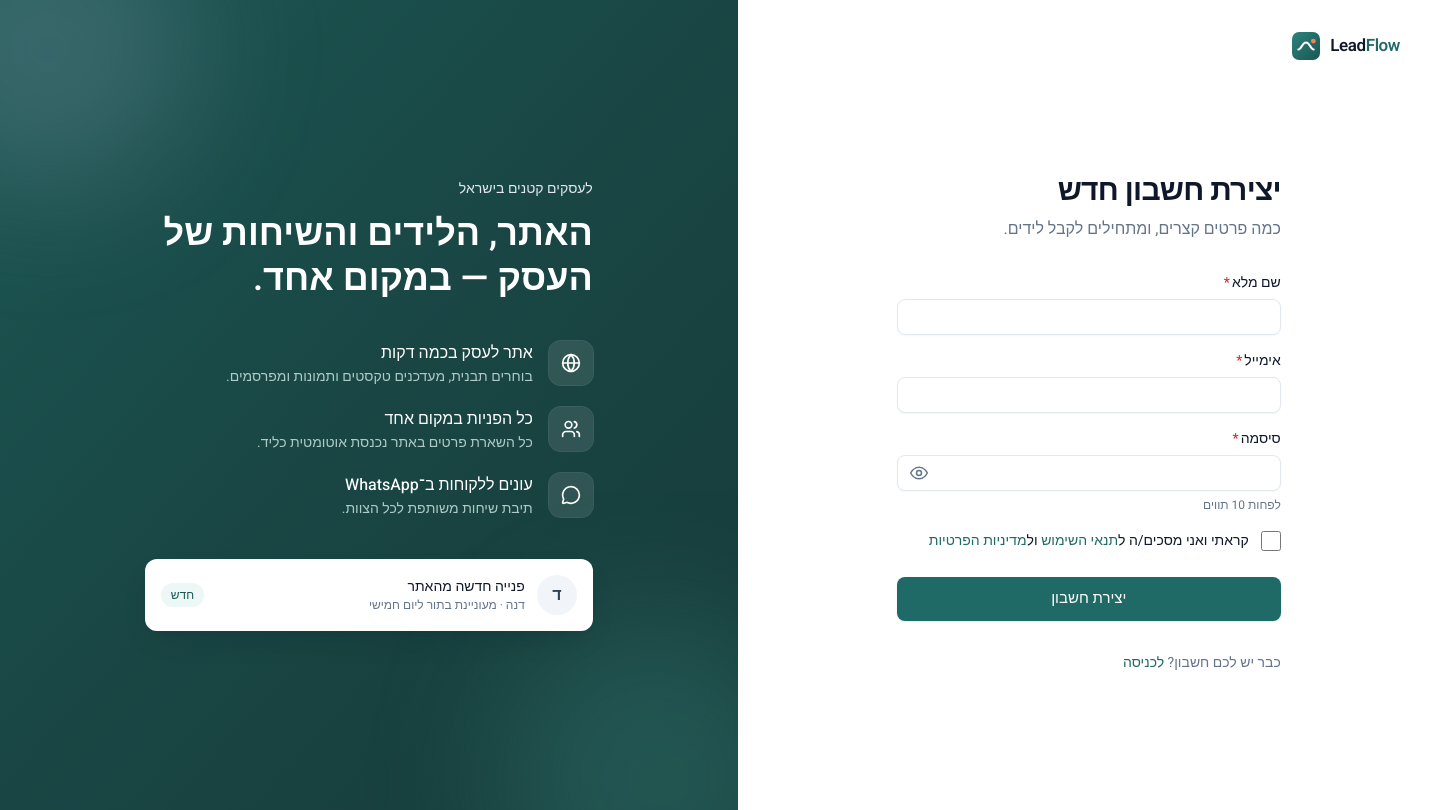
Test: RegisterPage › creates the account and lands on the business home with the unverified banner
Check: the button "יצירת חשבון" is shown, box [897, 576, 1281, 620]
Type "דנה כהן" into the field labelled "שם מלא*". click: (1089, 316)
box: [897, 298, 1281, 334]
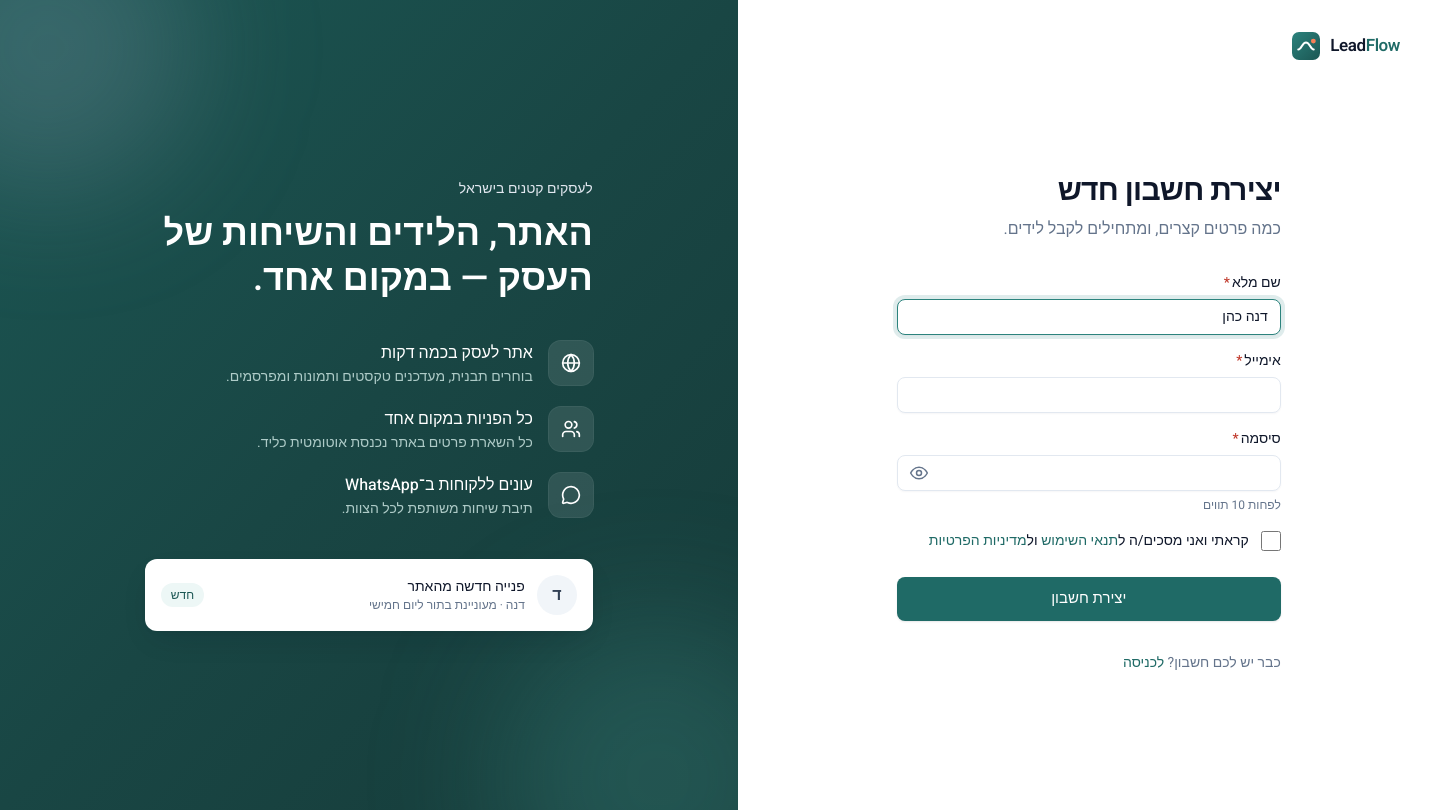
Type "dana@example.com" into the field labelled "אימייל*". click: (1089, 394)
box: [897, 376, 1281, 412]
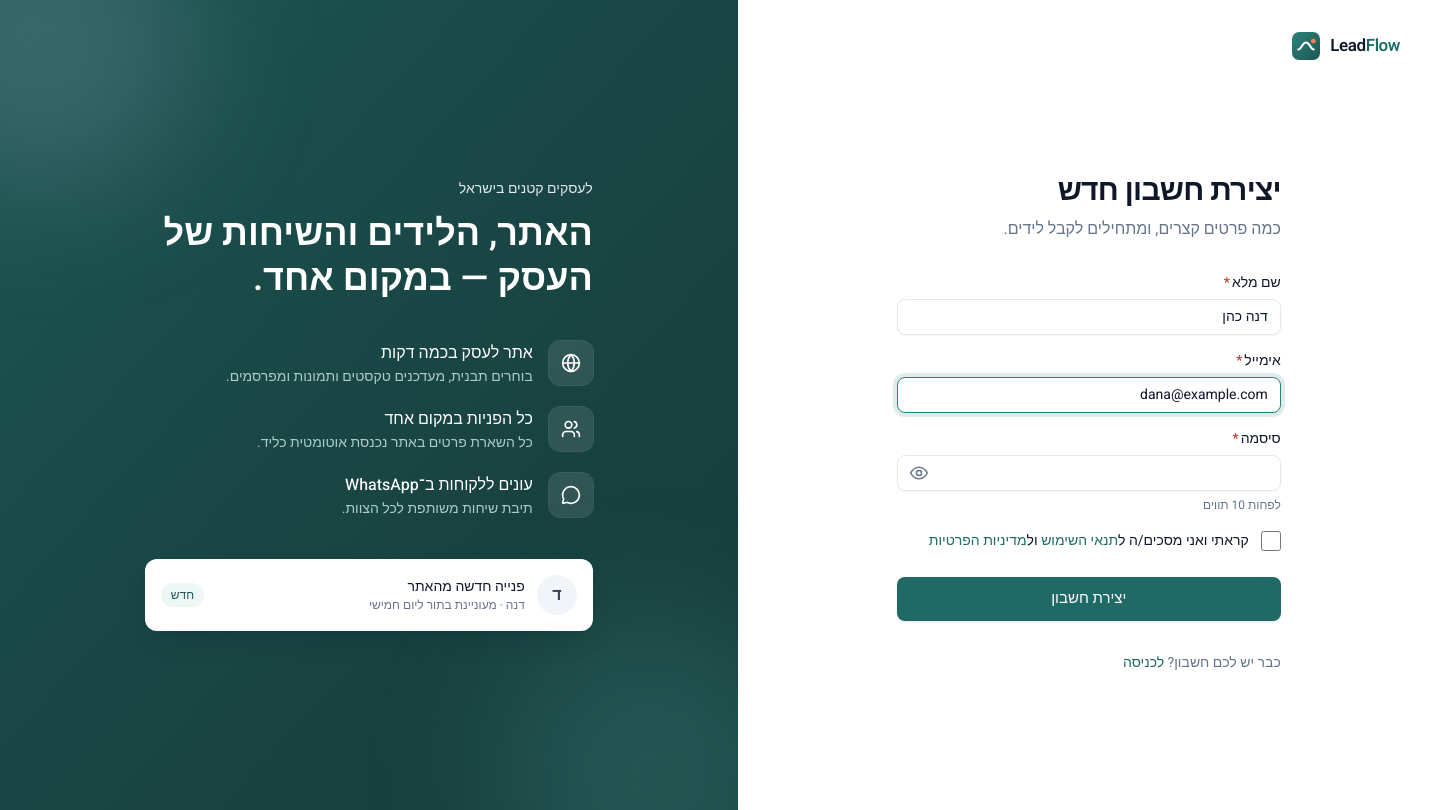
Type "a-strong-password" into the password field labelled "סיסמה*". click: (1089, 472)
box: [897, 454, 1281, 490]
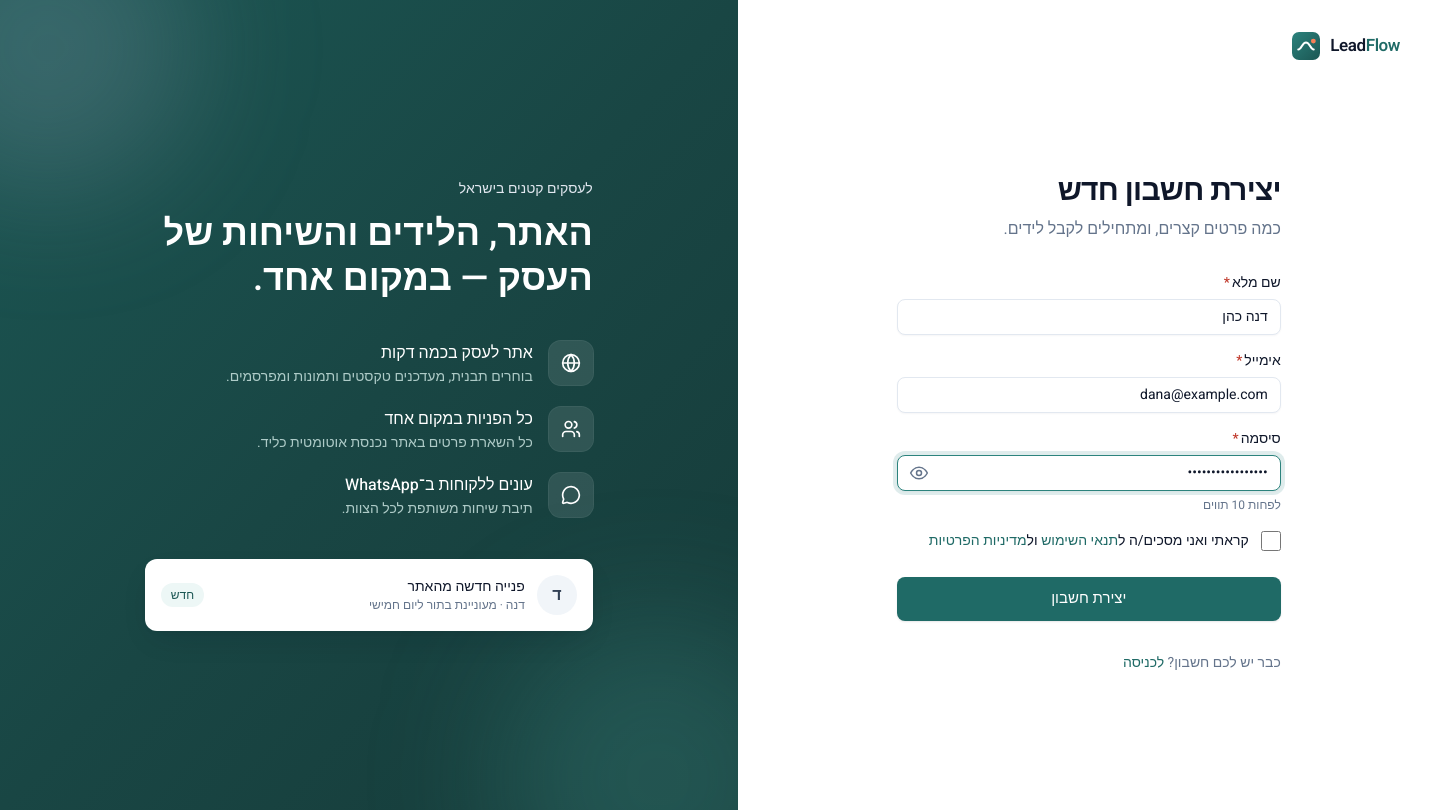
Click the checkbox. click: (1271, 540)
box: [1261, 530, 1281, 550]
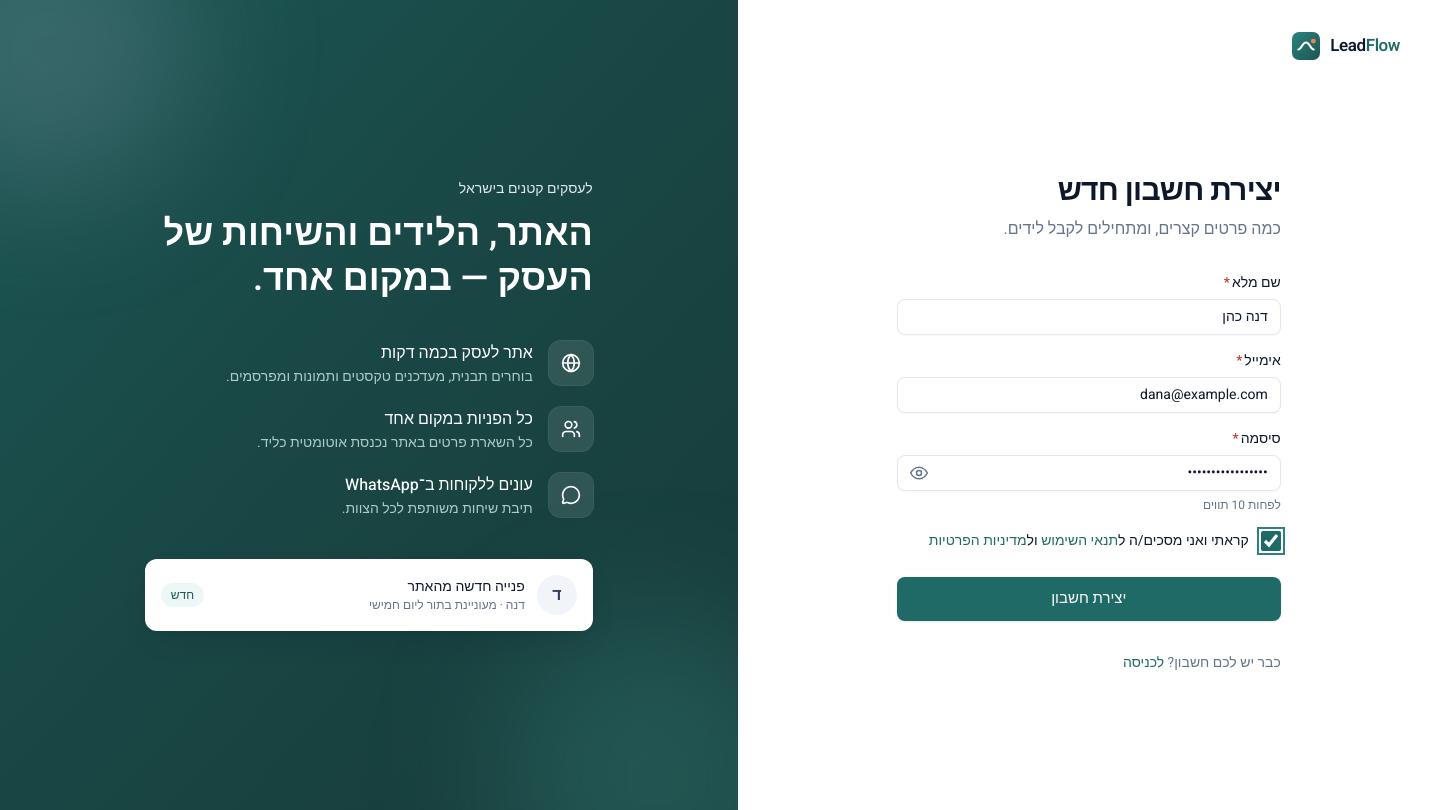
Click the button "יצירת חשבון". click: (1089, 598)
box: [897, 576, 1281, 620]
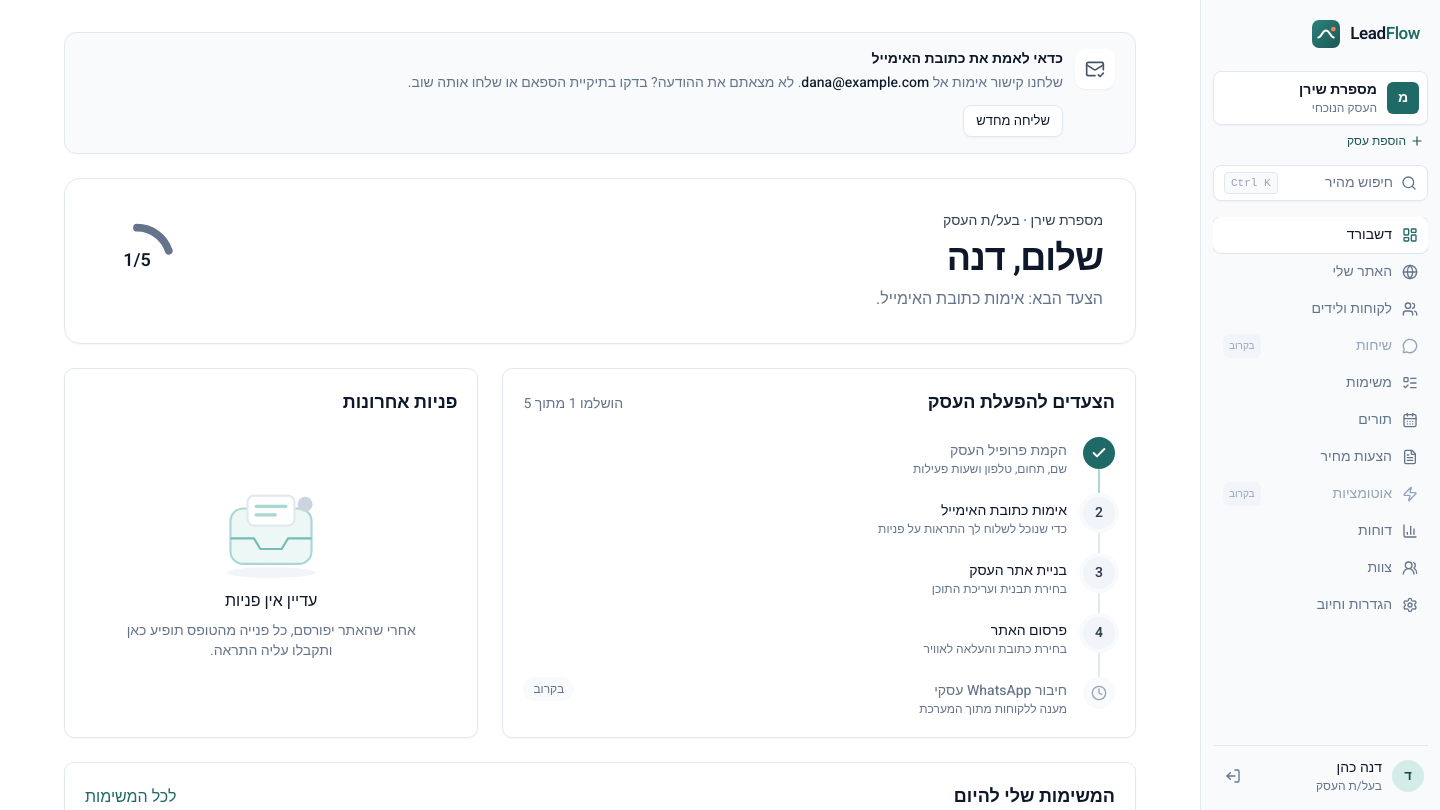
Check: the heading "שלום, דנה" is shown, box [947, 232, 1103, 285]
Check: the heading "כדאי לאמת את כתובת האימייל" is shown, box [871, 48, 1063, 69]
